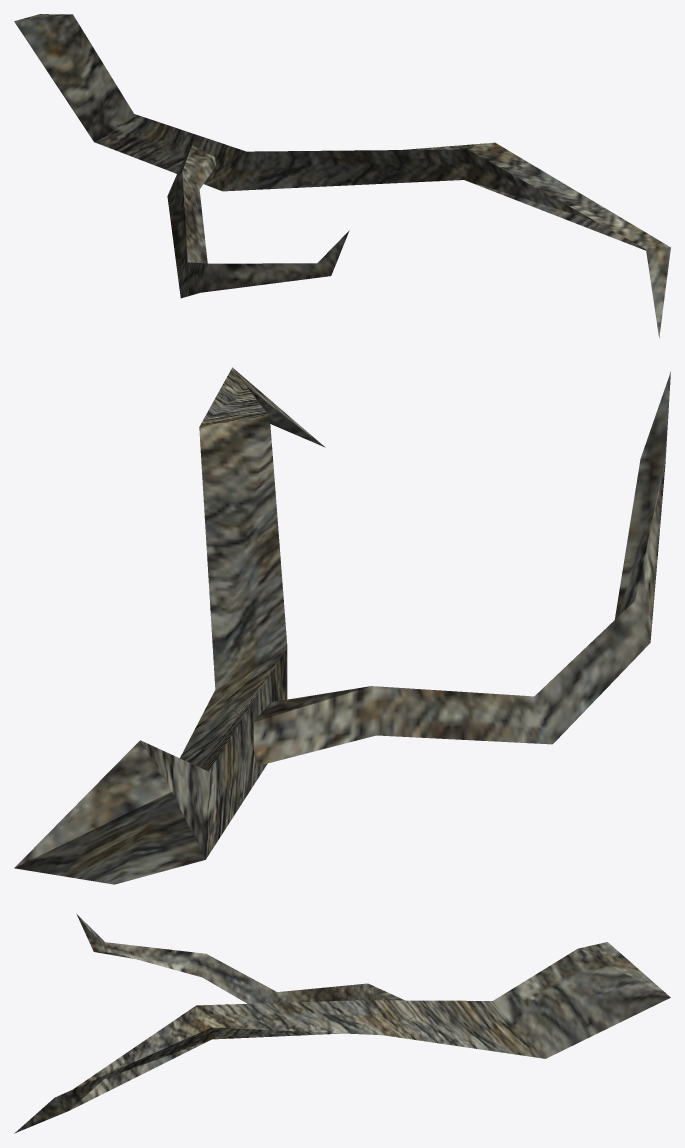
The model's file is Vatka_1.fbx.
3 views of the same model, one above another, from view 1: azimuth 30°, elevation 25°; view 2: azimuth 150°, elevation 25°; view 3: azimuth 270°, elevation 25° (orthographic). The views are drawn at different scales.
Visible parts, largest first — view 1: Vetky:polySurface279; view 2: Vetky:polySurface279; view 3: Vetky:polySurface279.
Part boxes in pixels (x1,y1,x2,y2): Vetky:polySurface279: (14, 14, 670, 337); Vetky:polySurface279: (14, 367, 670, 884); Vetky:polySurface279: (14, 914, 670, 1133).
Size of the model in its own units: 933 by 352 by 1781.
